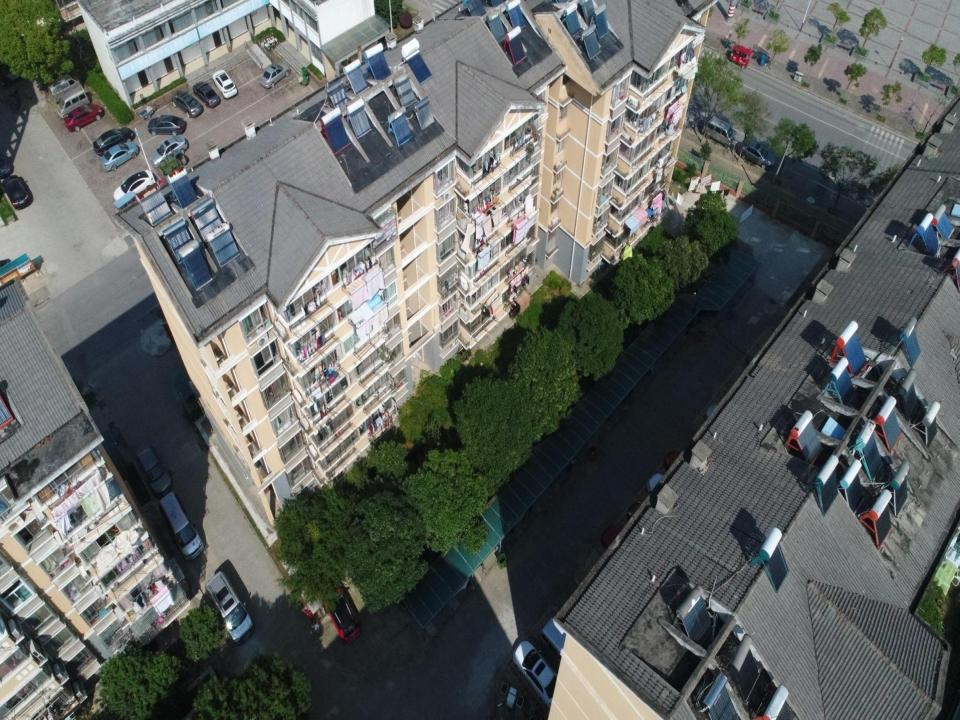car: (513, 640, 561, 711), (321, 578, 361, 646), (112, 169, 156, 208), (150, 134, 190, 168), (646, 471, 676, 515), (602, 524, 632, 567), (99, 140, 139, 172), (0, 170, 32, 210), (92, 126, 134, 156), (62, 102, 104, 132), (739, 139, 777, 171), (664, 448, 693, 486), (626, 502, 658, 536), (170, 90, 204, 118), (259, 61, 291, 89), (192, 80, 220, 108), (212, 70, 238, 100), (147, 115, 185, 135), (704, 402, 729, 432), (728, 43, 752, 69)
van: (205, 570, 255, 646), (158, 491, 204, 562), (135, 440, 173, 496), (540, 616, 581, 662), (56, 85, 90, 118), (48, 72, 82, 104), (704, 116, 736, 148)
